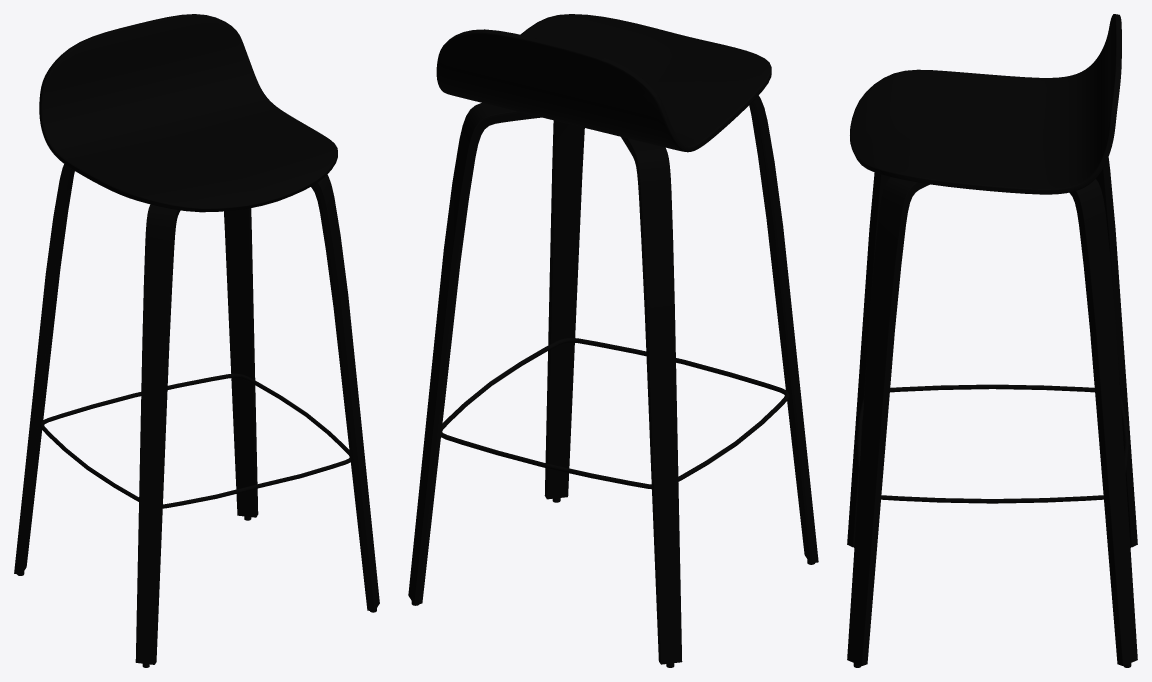
The model's file is chair_25_07.001.fbx.
The picture shows the model from 3 angles, left to right: view 1: azimuth 30°, elevation 25°; view 2: azimuth 150°, elevation 25°; view 3: azimuth 270°, elevation 25°; orthographic projection. The views are drawn at different scales.
Parts seen in each view (by area): view 1: chair_25_07.001; view 2: chair_25_07.001; view 3: chair_25_07.001.
Part boxes in pixels (x1=…): chair_25_07.001: x1=14, y1=14, x2=379, y2=667; chair_25_07.001: x1=408, y1=14, x2=818, y2=667; chair_25_07.001: x1=847, y1=14, x2=1137, y2=667.
Bounding box in the file's own units: 38.24 × 78.78 × 36.74.
1 material, 1 textured.
